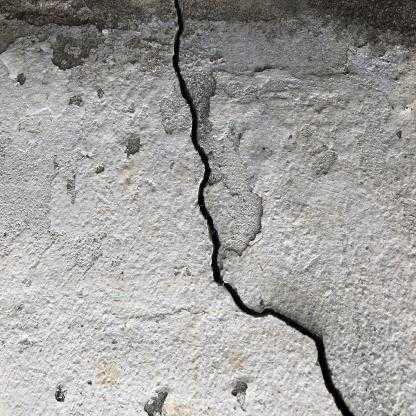crack: (172, 0, 356, 416)
